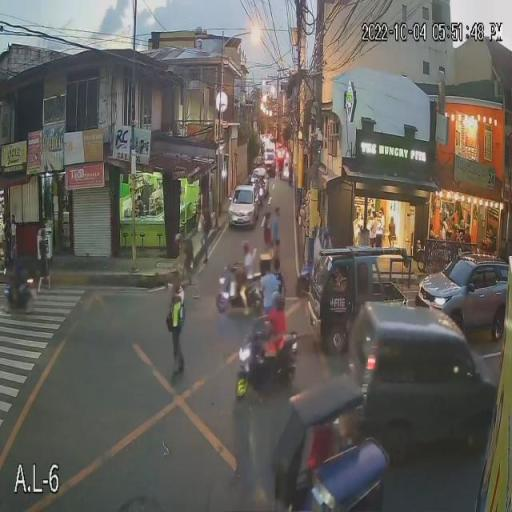helmet: (271, 292, 285, 310), (241, 241, 250, 253)
motorcycle: (236, 332, 297, 398), (217, 266, 260, 310), (4, 279, 35, 314)
rider: (262, 310, 285, 380), (236, 254, 252, 315)
